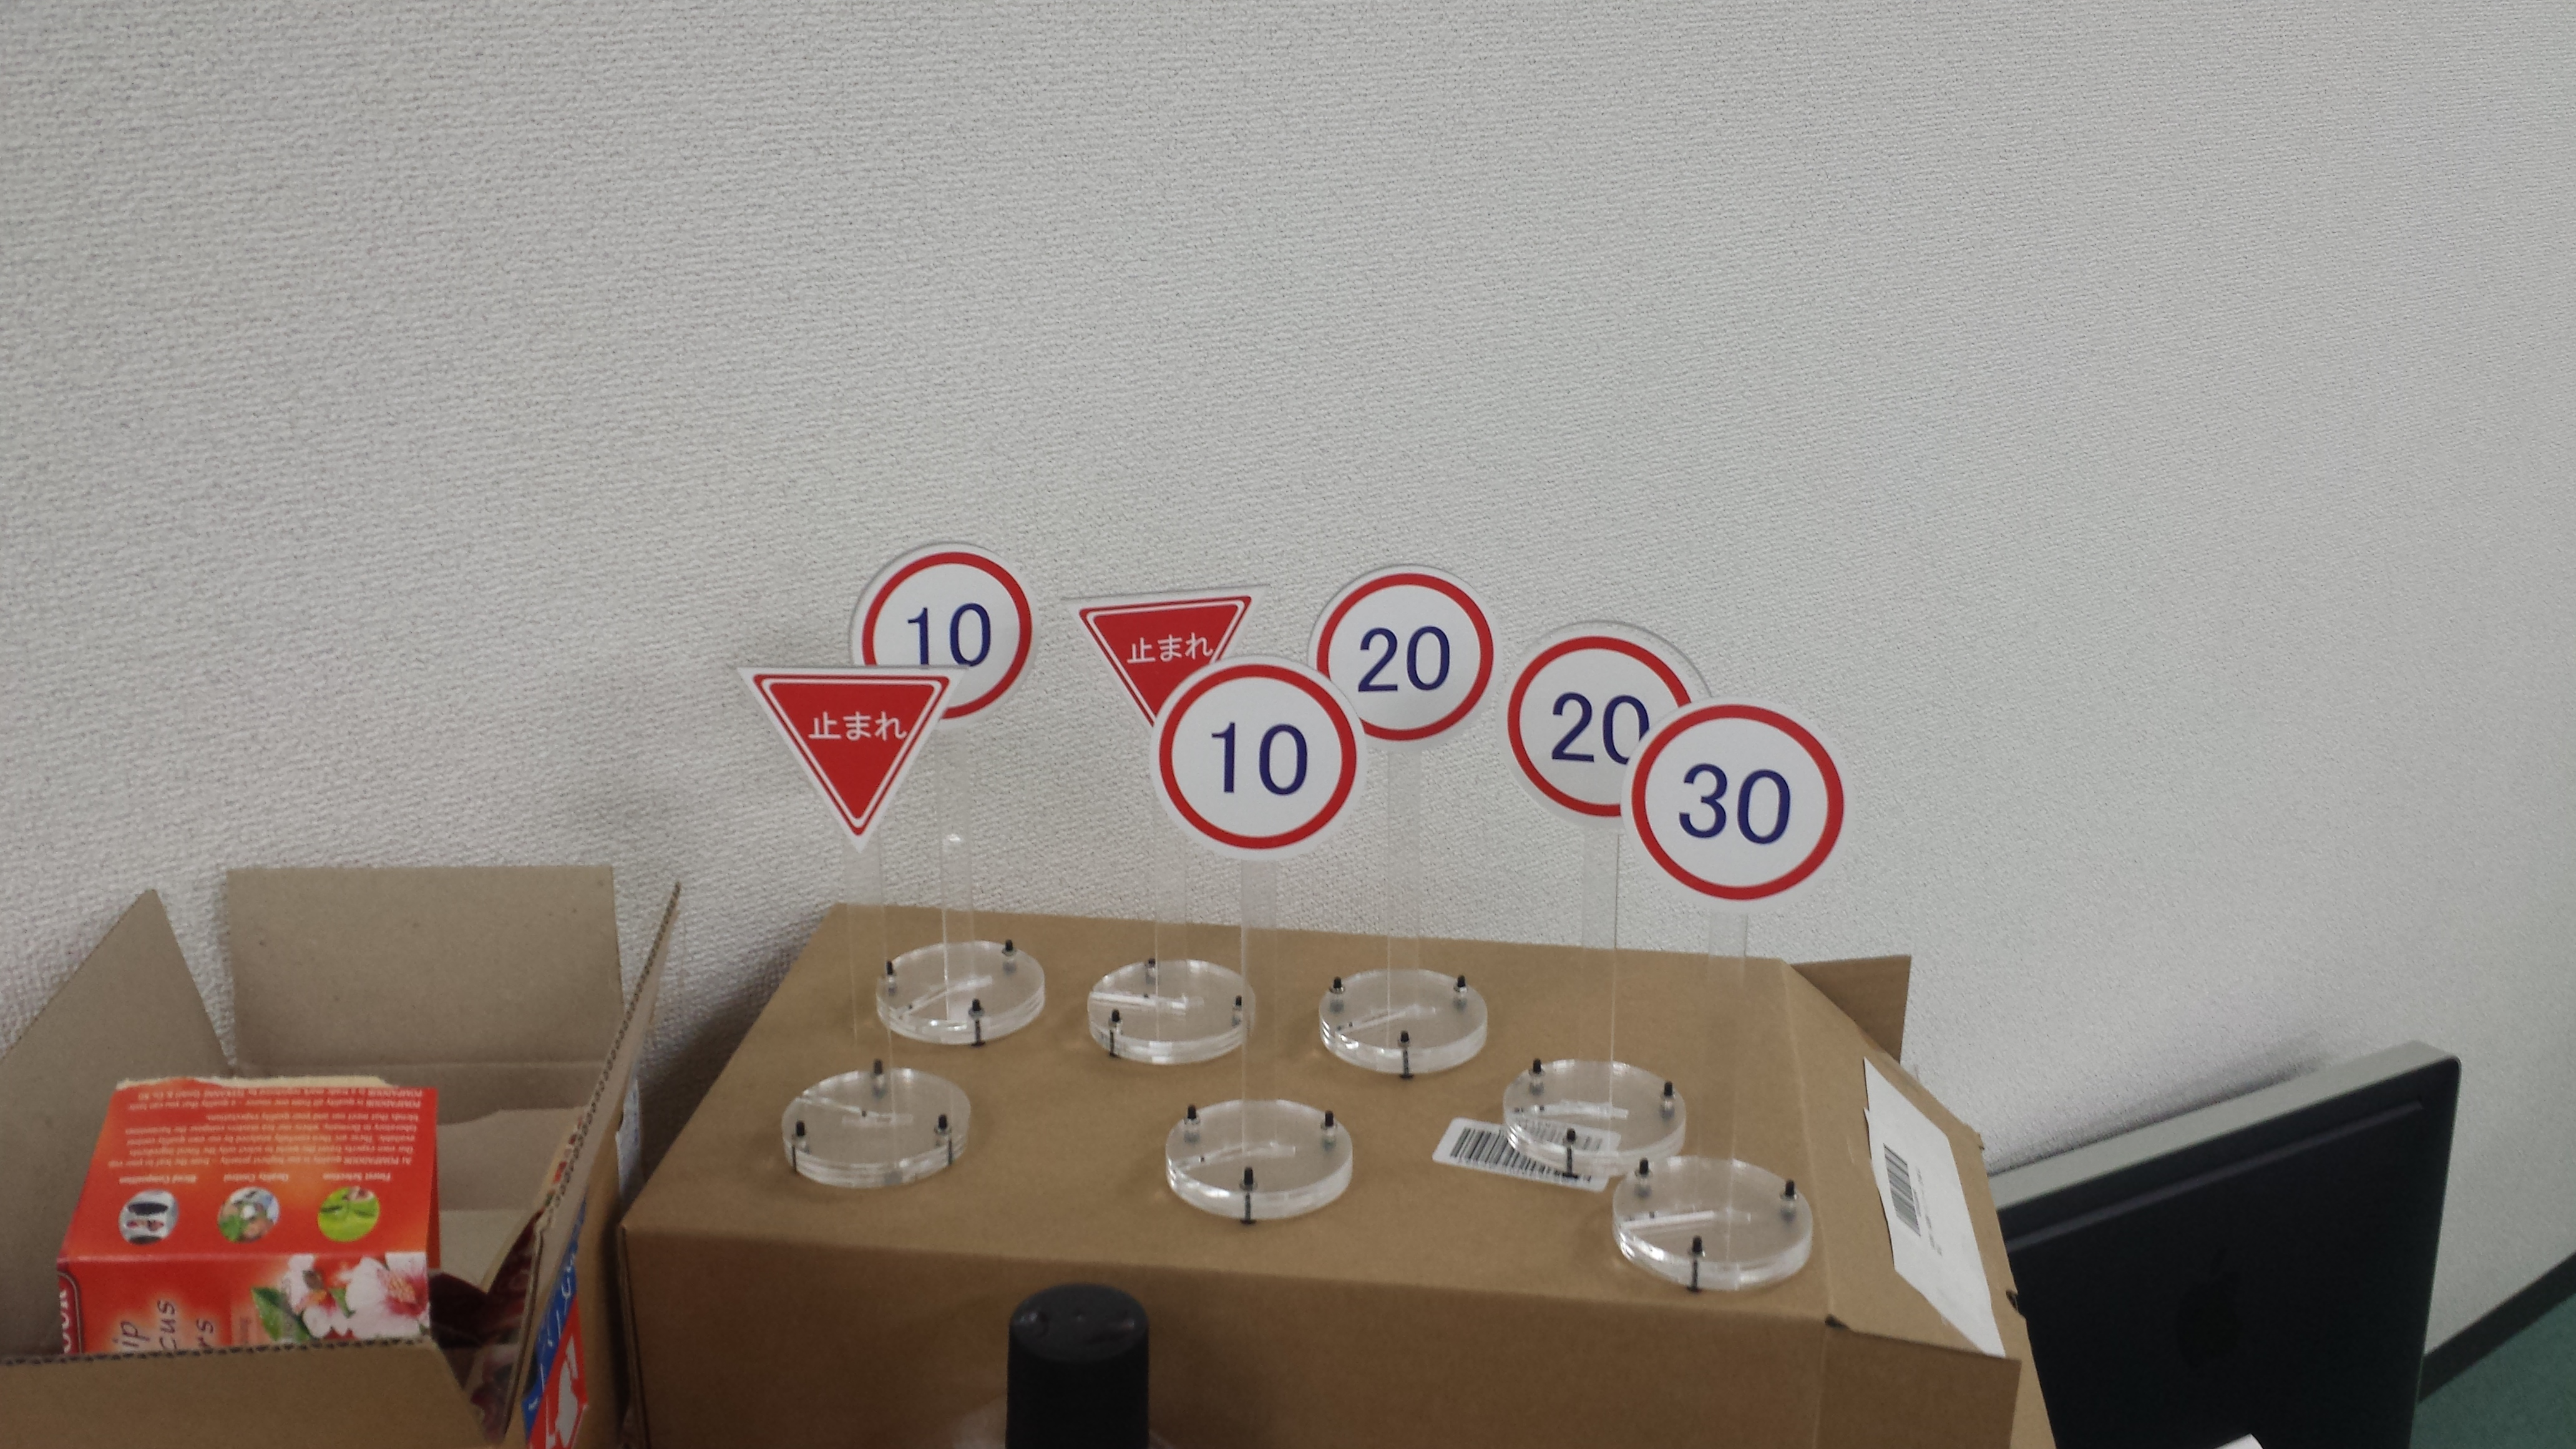speed_10: (1150, 649, 1371, 862), (855, 543, 1040, 722)
speed_20: (1495, 628, 1698, 823), (1311, 564, 1504, 747)
speed_30: (1638, 704, 1847, 901)
stop: (734, 665, 961, 853), (1062, 586, 1265, 738)
